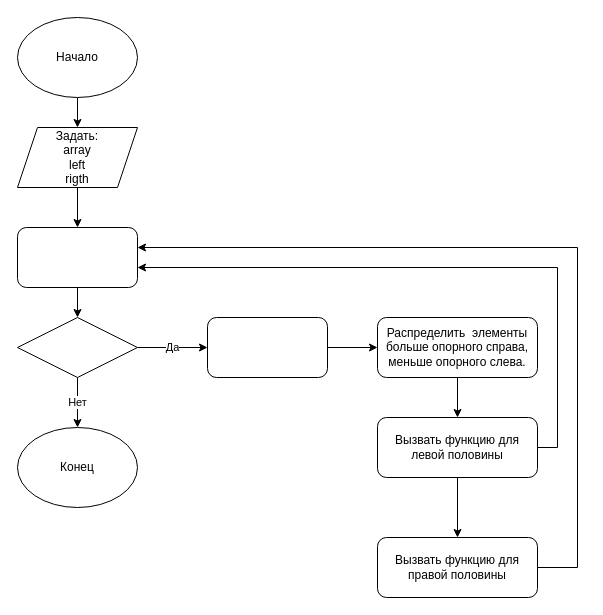
The diagram is 603 pixels wide and 615 high, and some of its shapes have lost their labels. Each missing label, with the box of its shape:
left < rigth: (16, 316, 138, 378)
Выбрать опорный элемент: (206, 316, 328, 378)
Вызвать функцию qsort: (16, 226, 138, 288)
